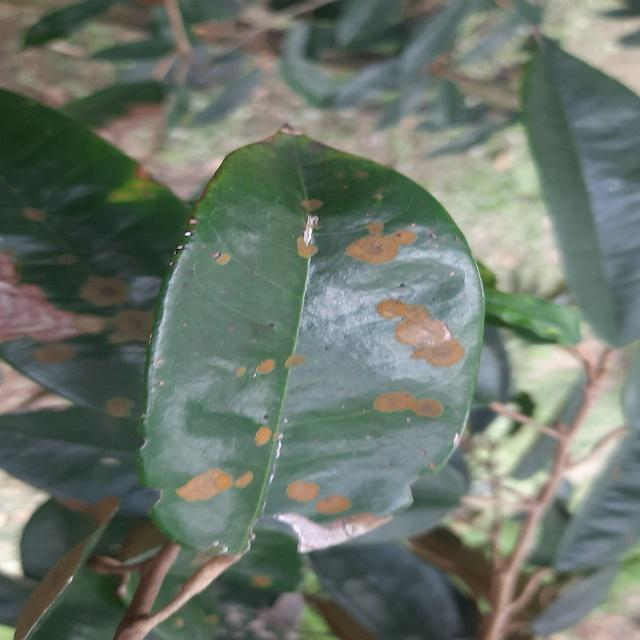Algal Leaf Spot: (149, 112, 491, 565)
